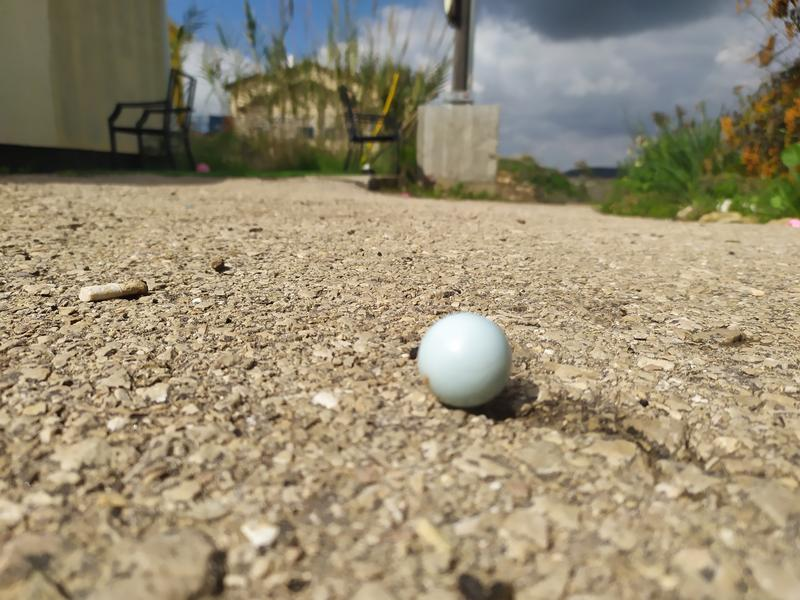Warning: (415, 309, 515, 411)
